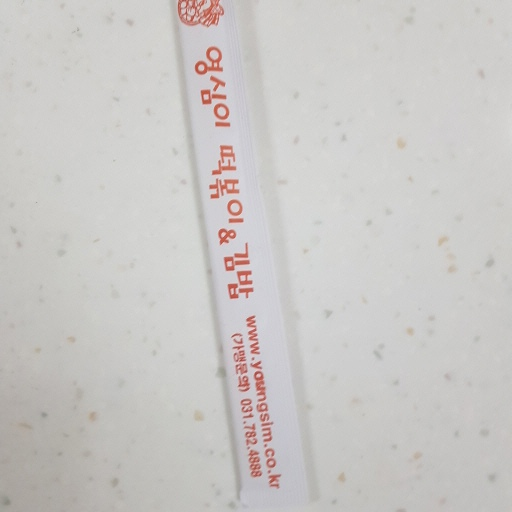Paper_2: (166, 1, 323, 510)
